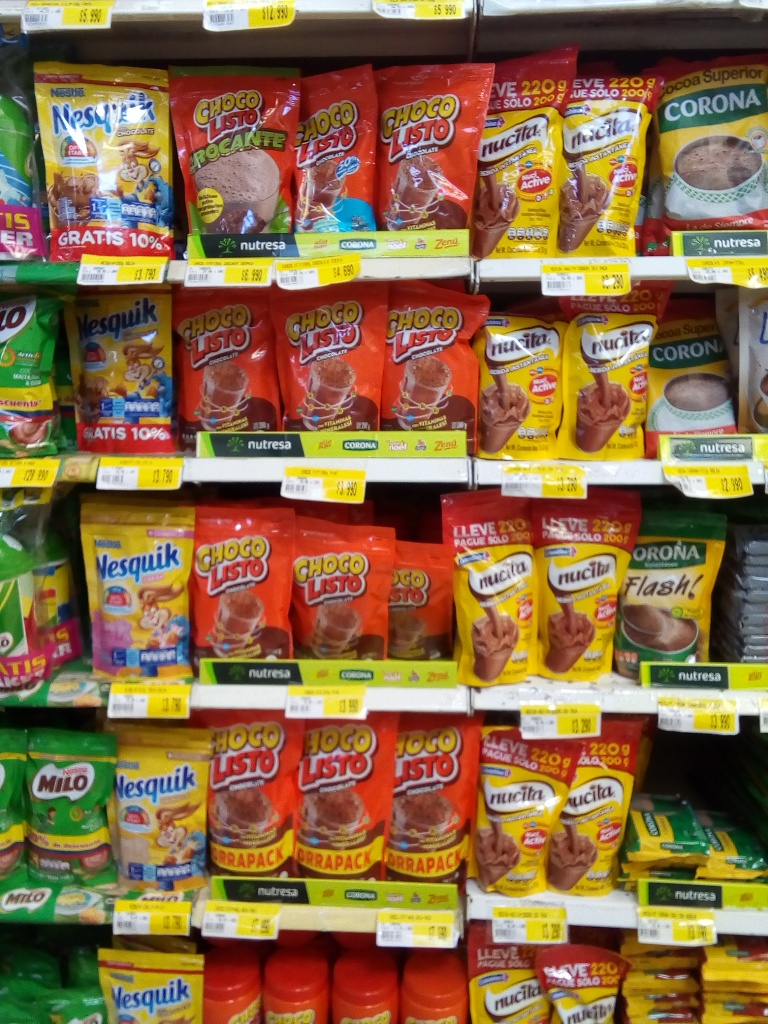COL0170102DYP25000: (169, 66, 300, 234)
COL0170103DYP44000: (387, 710, 478, 883)
COL0170104DYP20000: (299, 63, 381, 231)
COL0170203DYP25000: (23, 726, 120, 888)
COL0170303DYP20000: (31, 61, 175, 255)
COL0170305DYP20000: (85, 503, 194, 684)
COL0170306DYP20000: (109, 726, 211, 890)
